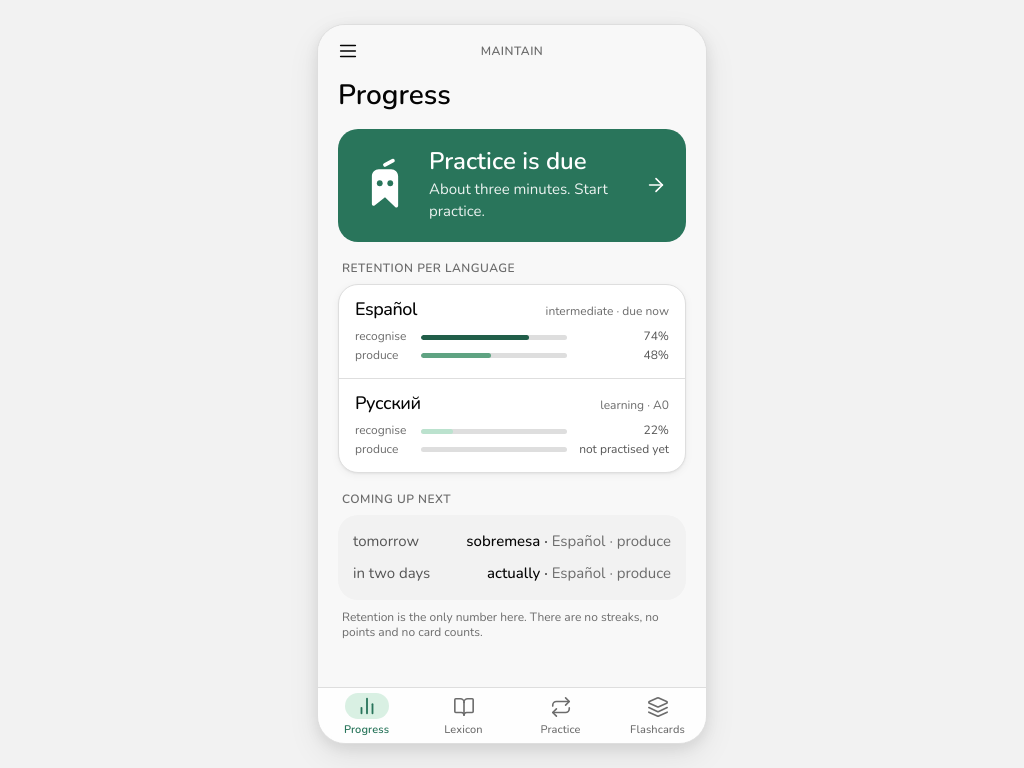
the side panel › leaves settings and account actions to the Settings page
The image size is (1024, 768).
Click the button named "Open the side panel": (348, 51) [326,29,370,73]
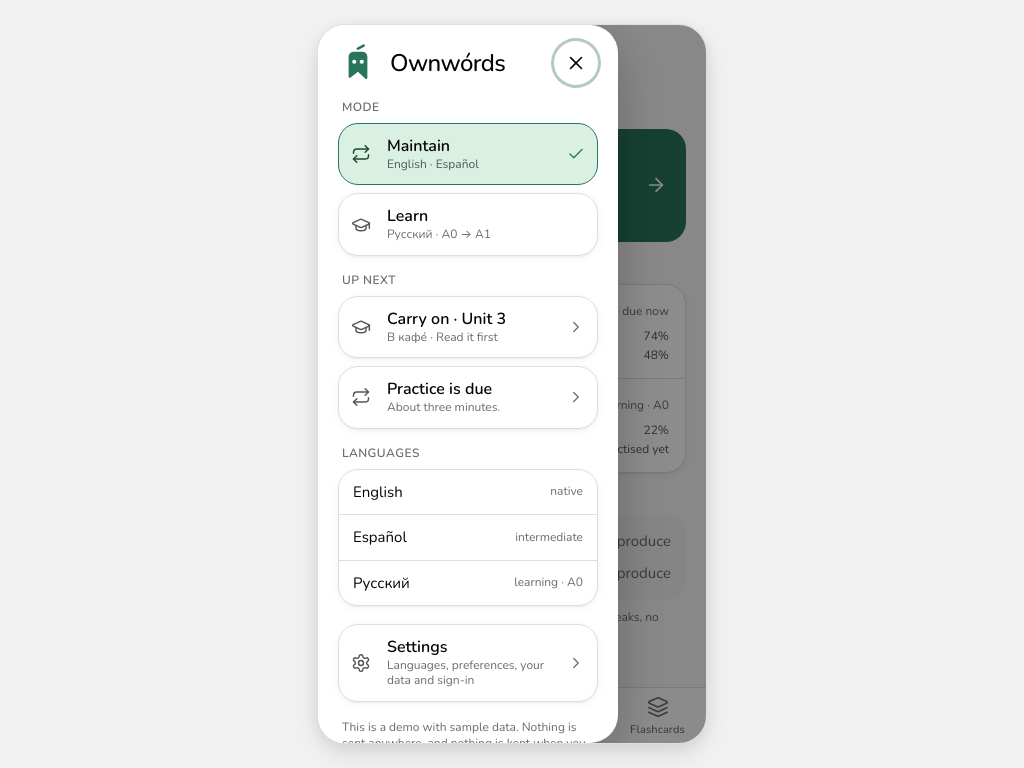
Expected: the button "Change languages" is not shown
Expected: the button "Export my data" is not shown
Click the button "Settings Languages, preferences, your data and sign-in": (468, 663) [338,624,598,702]
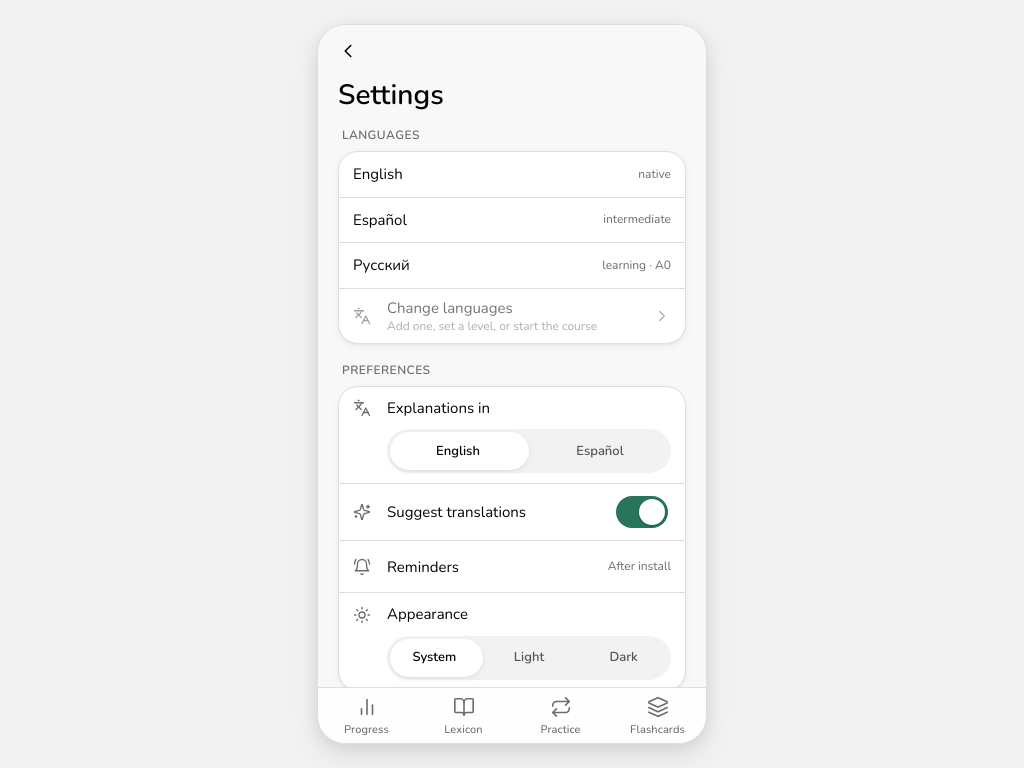
Expected: the navigation bar named "Maintain" is shown, [318,687,706,743]
Now the heading "Settings" is shown, box [338,76,444,114]
Now the dialog is gone
